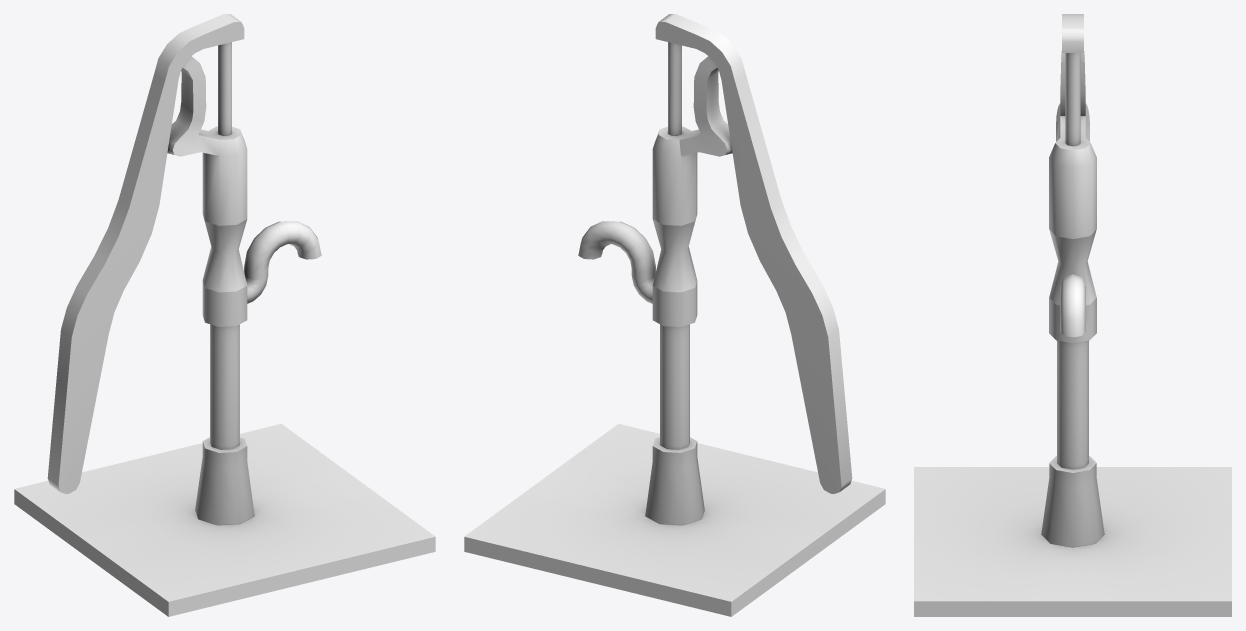
File: waterpump.fbx
3 views of the same model, side by side, from view 1: azimuth 30°, elevation 25°; view 2: azimuth 150°, elevation 25°; view 3: azimuth 270°, elevation 25° (orthographic). The views are drawn at different scales.
Parts seen in each view (by area): view 1: waterpump; view 2: waterpump; view 3: waterpump.
Part boxes in pixels (x1,y1,x2,y2): waterpump: (14,14,435,616); waterpump: (464,14,885,616); waterpump: (914,14,1231,616).
Size of the model in its own units: 457 by 728 by 400.
